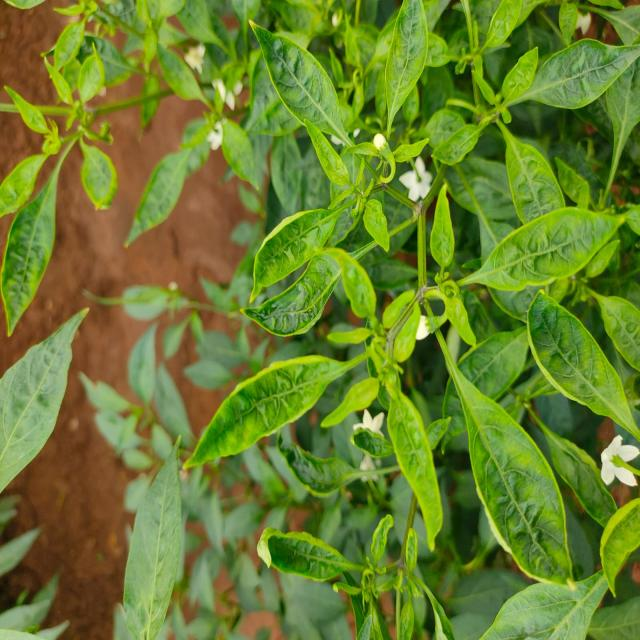Moko: (417, 339, 586, 606), (229, 488, 458, 640), (472, 170, 614, 337), (170, 339, 324, 492), (0, 112, 98, 346), (238, 190, 366, 357), (250, 8, 373, 168), (511, 19, 640, 155), (383, 0, 447, 134), (72, 30, 128, 110)
